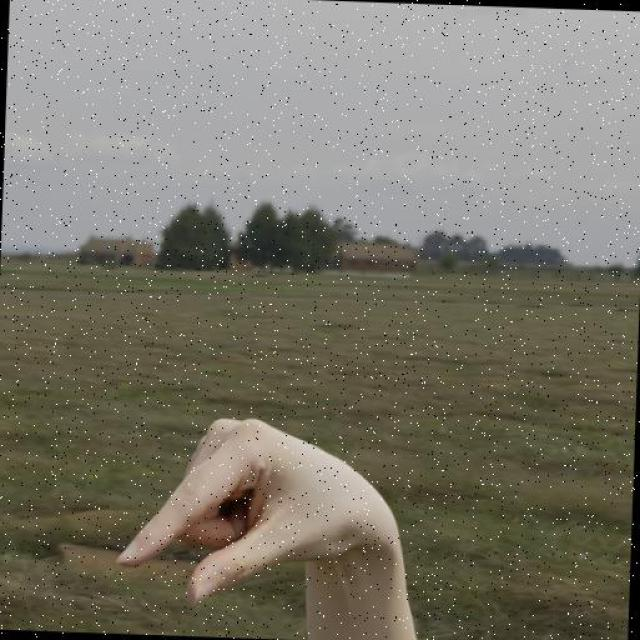Q: (112, 410, 402, 616)
